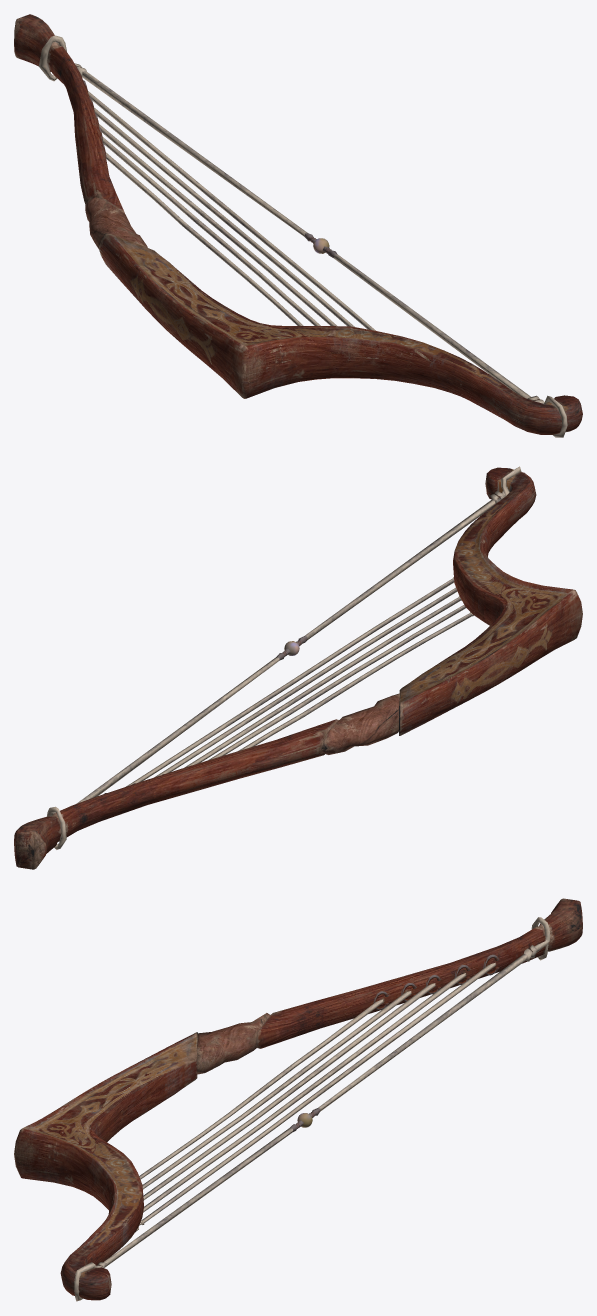
The model's file is harpbow.fbx.
3 renders of one model, top to bottom at view 1: azimuth 30°, elevation 25°; view 2: azimuth 150°, elevation 25°; view 3: azimuth 330°, elevation 25°, orthographic. The views are drawn at different scales.
Parts seen in each view (by area): view 1: WP_A_1411; view 2: WP_A_1411; view 3: WP_A_1411.
Part boxes in pixels (x1,y1,x2,y2): WP_A_1411: [14, 14, 582, 437]; WP_A_1411: [14, 466, 582, 869]; WP_A_1411: [14, 898, 582, 1301].
Bounding box in the file's own units: 23.79 × 5.45 × 100.
Materials: 1 (1 with a texture image).
